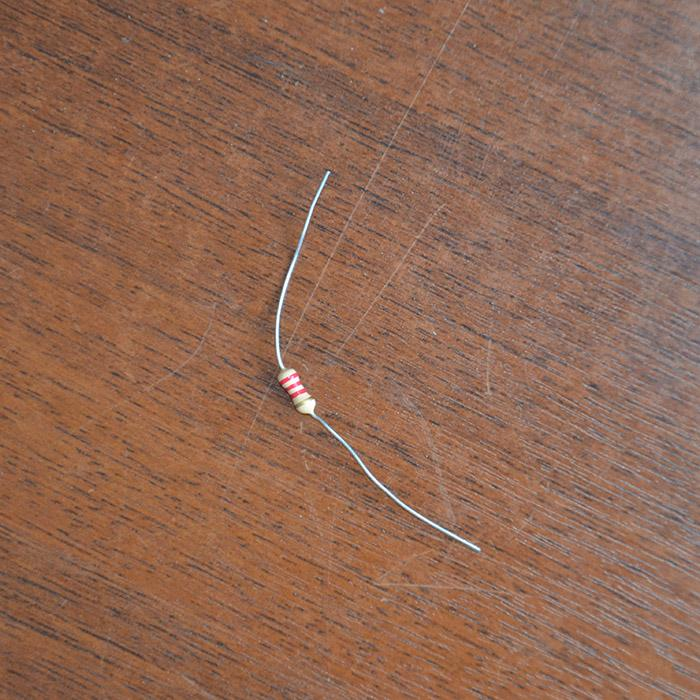resistor: (276, 366, 314, 413)
